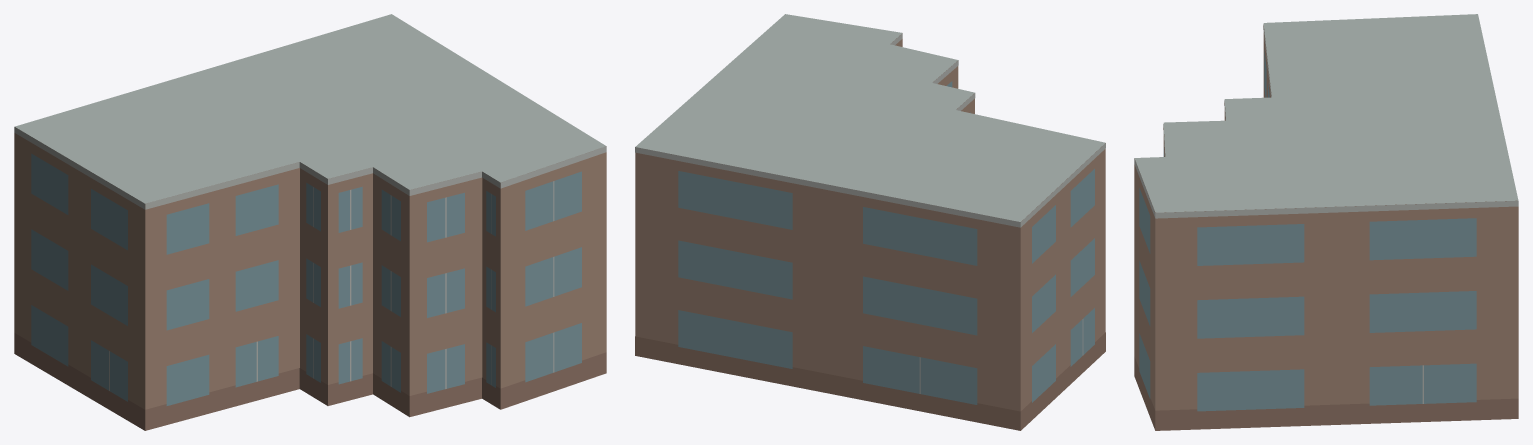
File: survey-upis-32527990.glb
The picture shows the model from 3 angles, left to right: view 1: azimuth 30°, elevation 25°; view 2: azimuth 150°, elevation 25°; view 3: azimuth 270°, elevation 25°; orthographic projection. The views are drawn at different scales.
Visible parts, largest first — view 1: survey-upis-32527990.tmp; view 2: survey-upis-32527990.tmp; view 3: survey-upis-32527990.tmp.
Part boxes in pixels (x1=…): survey-upis-32527990.tmp: x1=14, y1=14, x2=606, y2=430; survey-upis-32527990.tmp: x1=635, y1=14, x2=1105, y2=430; survey-upis-32527990.tmp: x1=1134, y1=14, x2=1518, y2=430.
Bounding box in the file's own units: 17.89 × 9.15 × 14.61.
